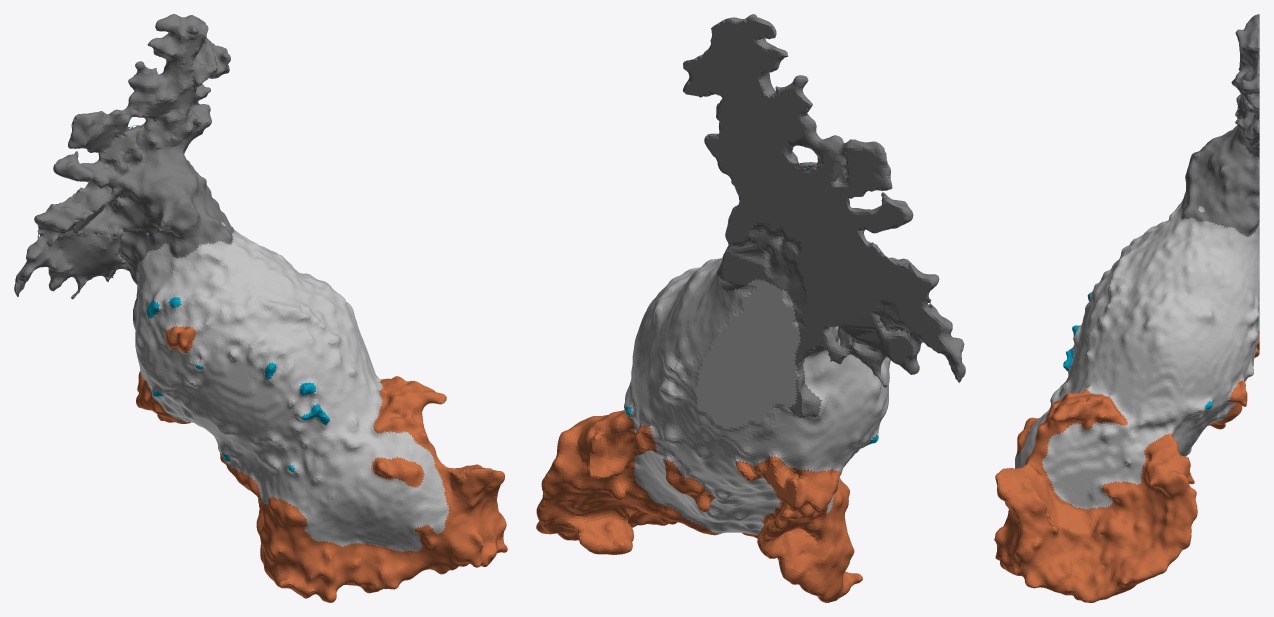
The picture shows the model from 3 angles, left to right: view 1: azimuth 30°, elevation 25°; view 2: azimuth 150°, elevation 25°; view 3: azimuth 270°, elevation 25°; orthographic projection. The views are drawn at different scales.
Bounding box in the file's own units: 163 × 211 × 102.
